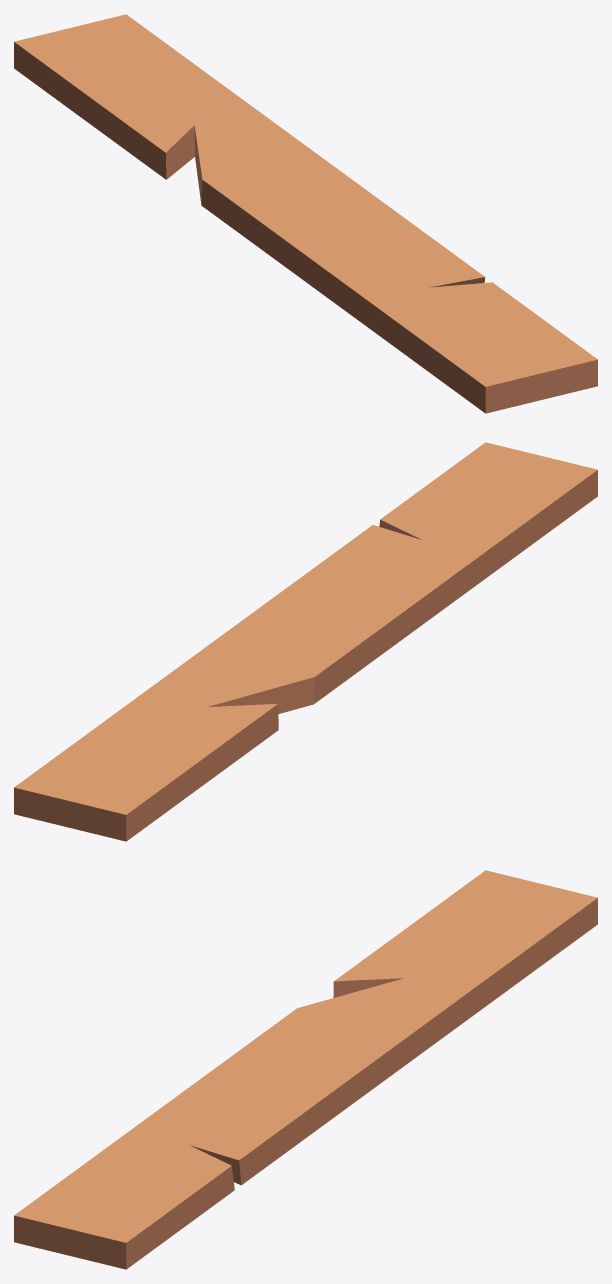
The model's file is doska.fbx.
The picture shows the model from 3 angles, top to bottom: view 1: azimuth 30°, elevation 25°; view 2: azimuth 150°, elevation 25°; view 3: azimuth 330°, elevation 25°; orthographic projection.
Visible parts, largest first — view 1: Doska; view 2: Doska; view 3: Doska.
Boxes of the visible parts, bbox=[...] form: Doska: bbox=[14, 14, 597, 413]; Doska: bbox=[14, 442, 597, 841]; Doska: bbox=[14, 870, 597, 1269].
Size of the model in its own units: 44 by 10 by 320.
